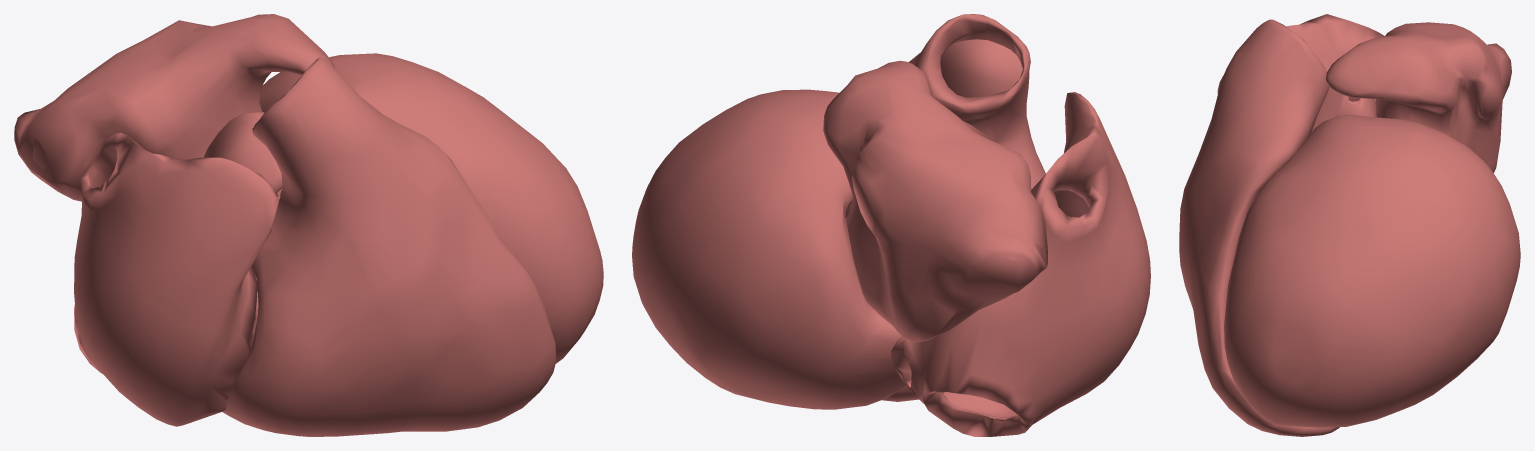
The model's file is 3d-vh-f-heart_lod_20.glb.
3 views of the same model, side by side, from view 1: azimuth 30°, elevation 25°; view 2: azimuth 150°, elevation 25°; view 3: azimuth 270°, elevation 25° (orthographic). The views are drawn at different scales.
Parts seen in each view (by area): view 1: VH_F_right_ventricle, VH_F_right_cardiac_atrium, VH_F_left_ventricle, VH_F_left_cardiac_atrium, VH_F_aortic_valve; view 2: VH_F_left_ventricle, VH_F_left_cardiac_atrium, VH_F_right_cardiac_atrium, VH_F_right_ventricle, VH_F_pulmonary_valve; view 3: VH_F_left_ventricle, VH_F_right_ventricle, VH_F_left_cardiac_atrium, VH_F_right_cardiac_atrium, VH_F_aortic_valve.
Part boxes in pixels (left/top/right/bottom): VH_F_right_ventricle: left=222, top=57, right=556, bottom=436; VH_F_right_cardiac_atrium: left=74, top=133, right=278, bottom=426; VH_F_left_ventricle: left=259, top=53, right=603, bottom=363; VH_F_left_cardiac_atrium: left=14, top=14, right=334, bottom=201; VH_F_aortic_valve: left=204, top=111, right=282, bottom=200; VH_F_left_ventricle: left=632, top=89, right=906, bottom=409; VH_F_left_cardiac_atrium: left=823, top=60, right=1047, bottom=342; VH_F_right_cardiac_atrium: left=890, top=92, right=1150, bottom=436; VH_F_right_ventricle: left=882, top=14, right=1045, bottom=401; VH_F_pulmonary_valve: left=940, top=39, right=1022, bottom=97; VH_F_left_ventricle: left=1224, top=114, right=1520, bottom=427; VH_F_right_ventricle: left=1179, top=19, right=1339, bottom=436; VH_F_left_cardiac_atrium: left=1326, top=22, right=1511, bottom=172; VH_F_right_cardiac_atrium: left=1217, top=14, right=1384, bottom=101; VH_F_aortic_valve: left=1312, top=87, right=1376, bottom=131.
Size of the model in its own units: 0.1426 by 0.1099 by 0.1014.
